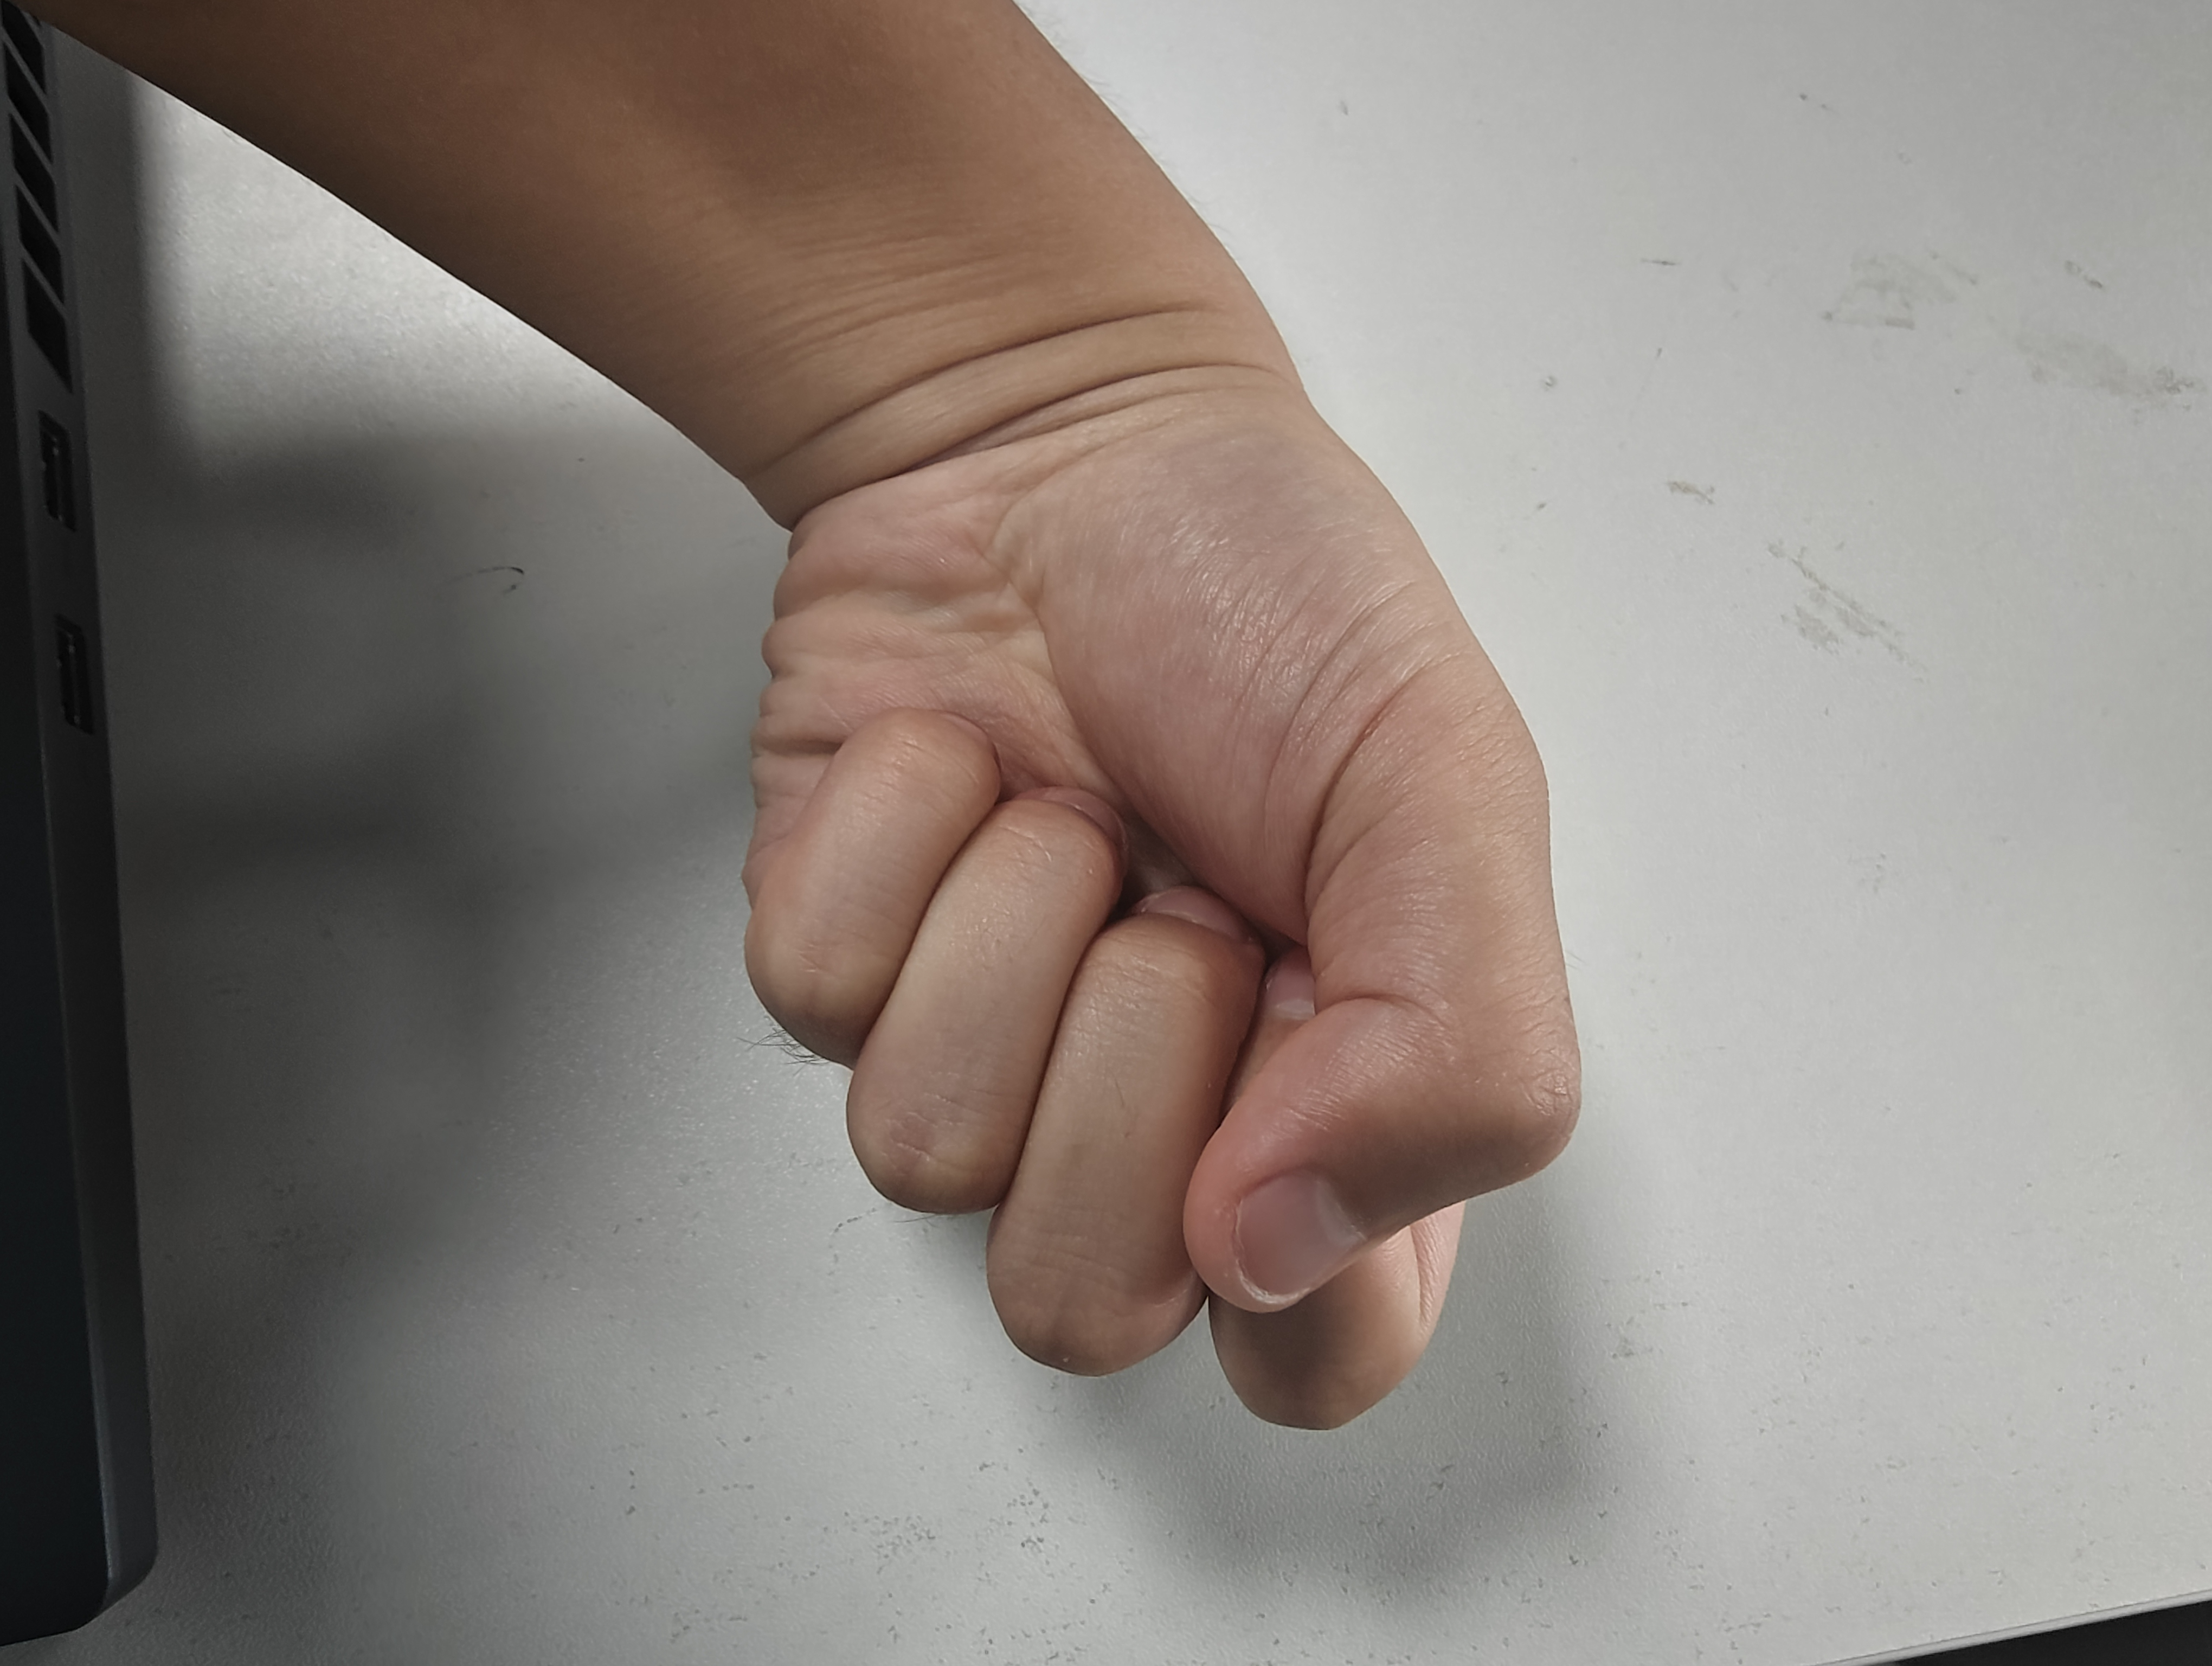mb: (733, 516, 1582, 1440)
